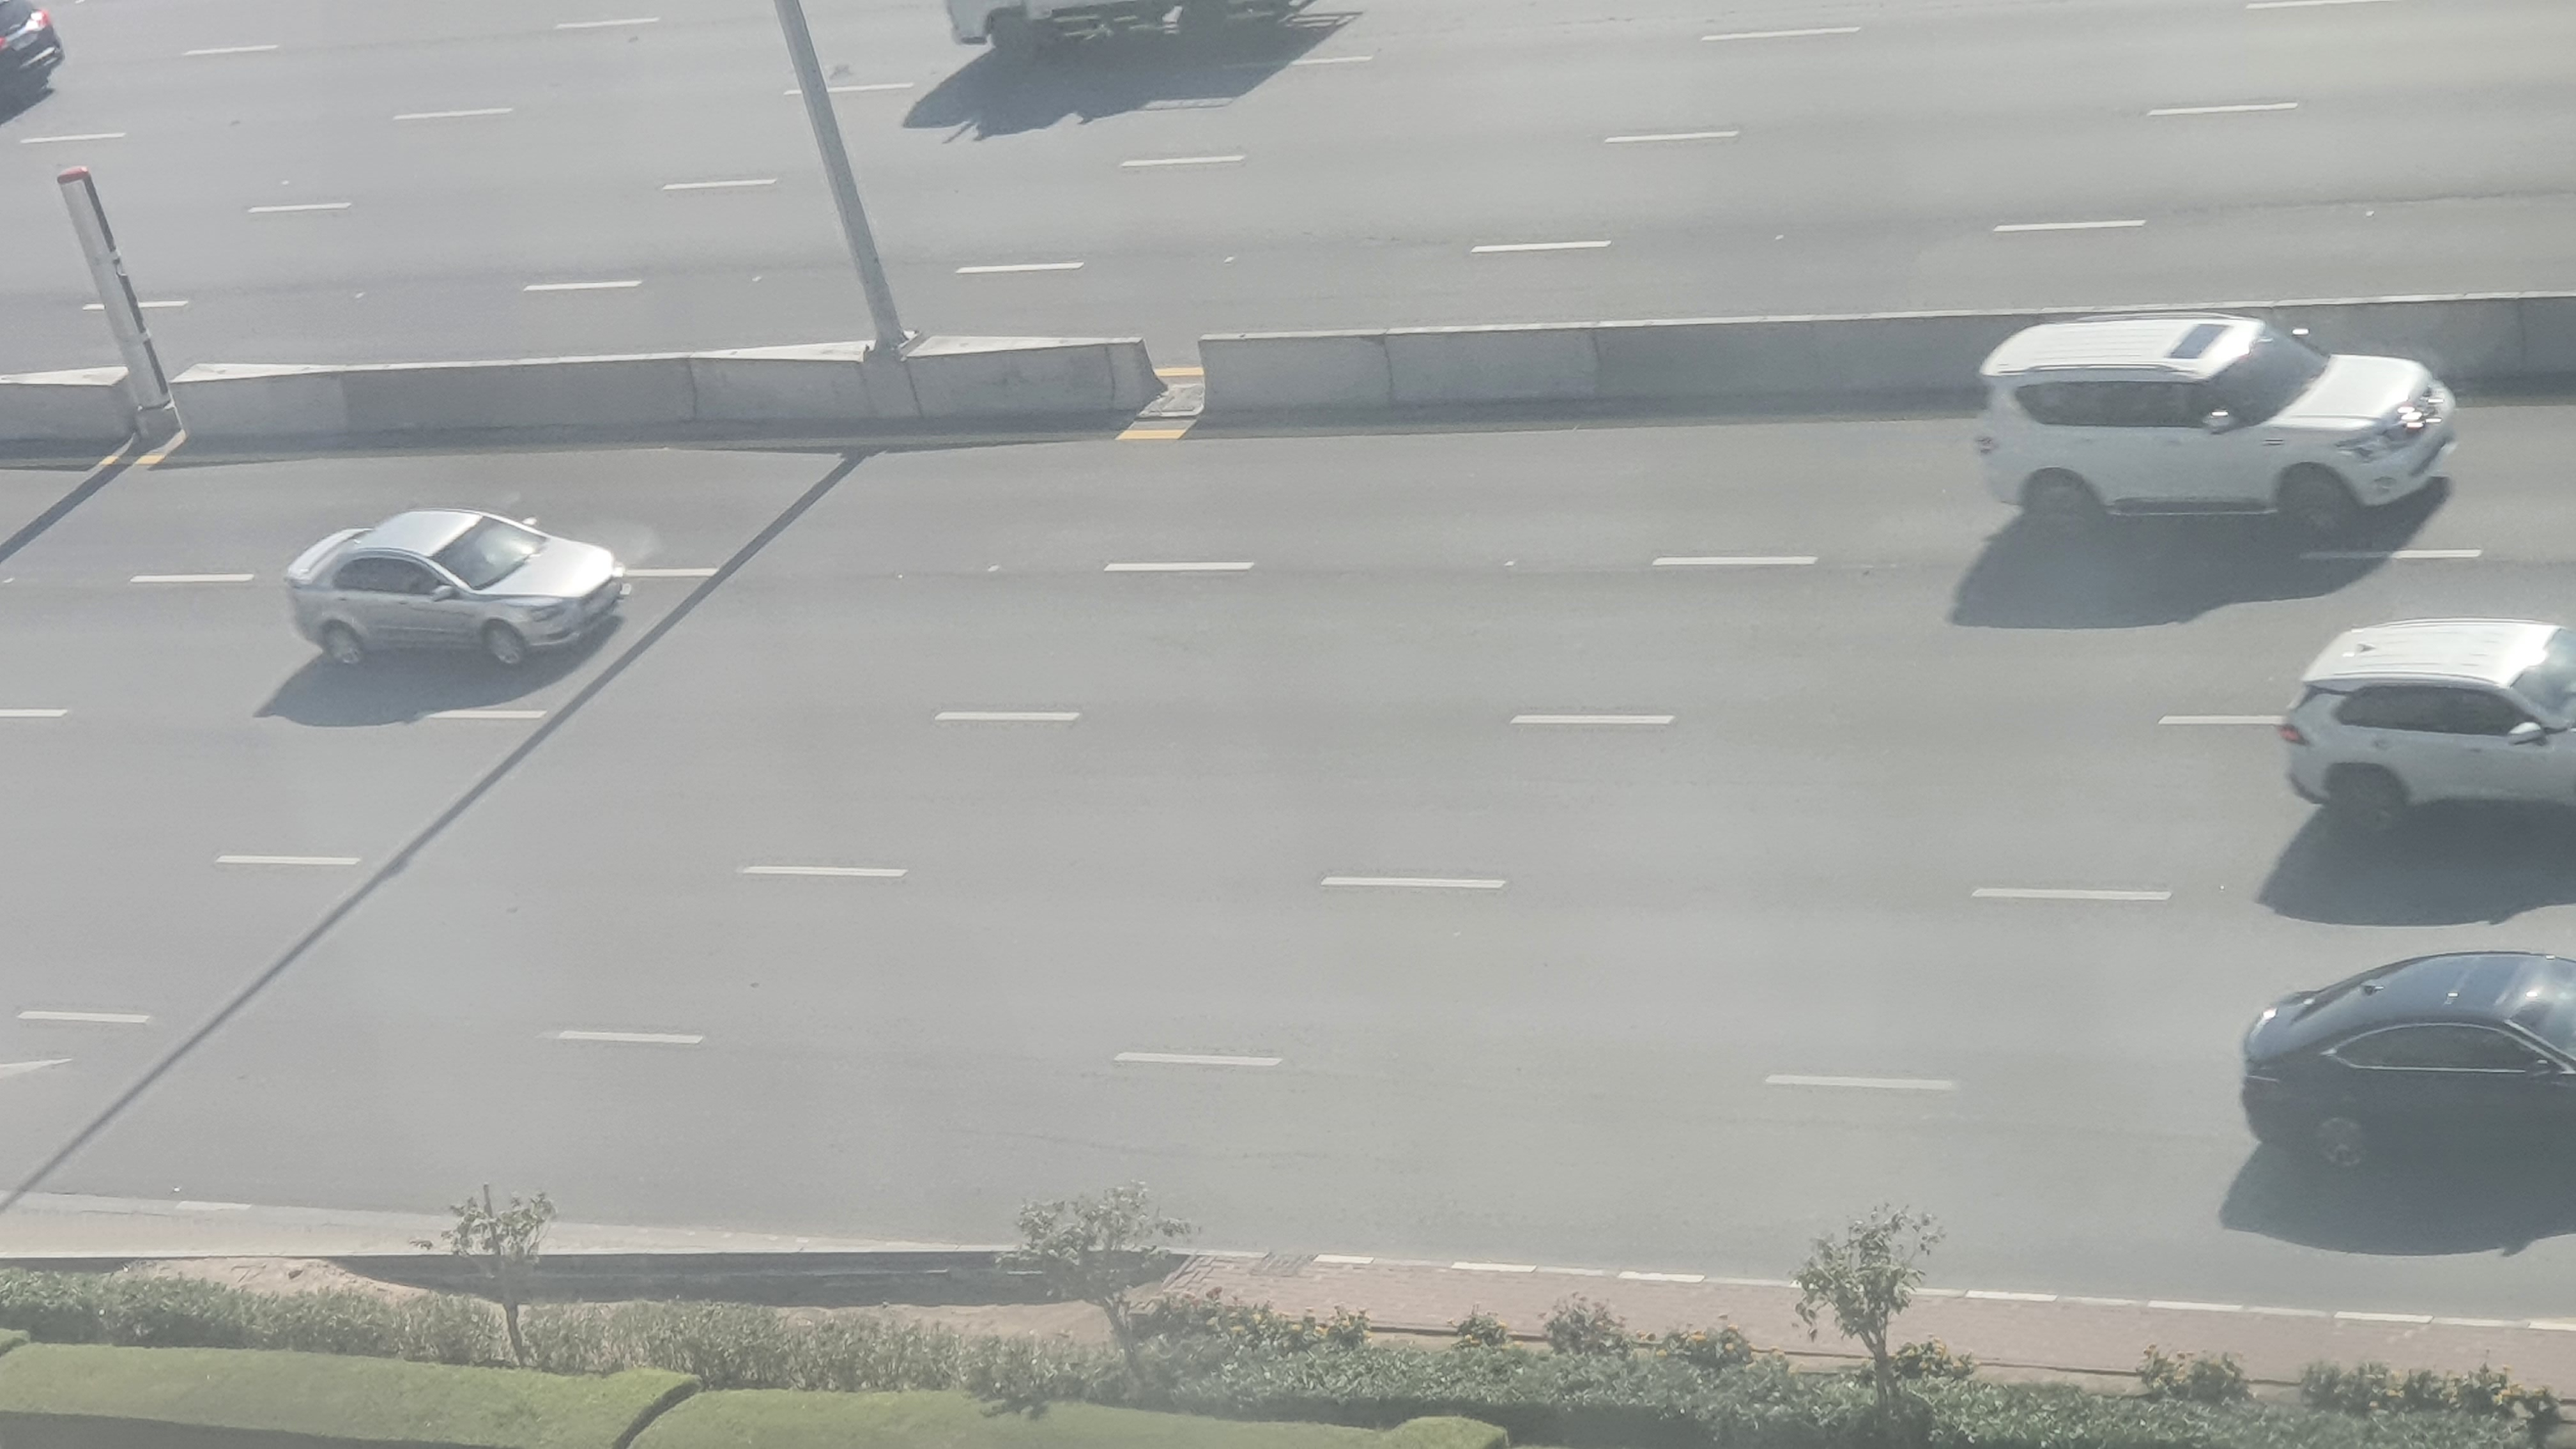NotSunroof: (2266, 610, 2576, 832), (285, 511, 632, 676)
Sunroof: (1974, 299, 2472, 552), (2238, 934, 2576, 1208)
